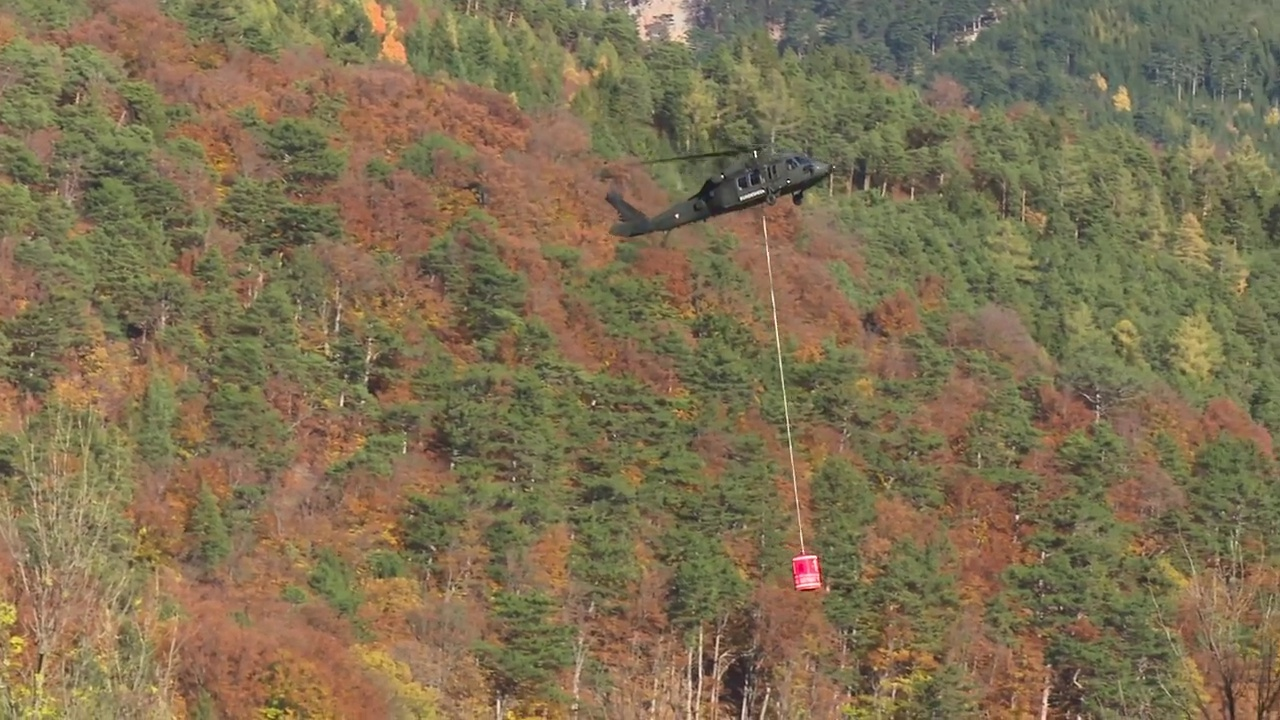heli: (602, 147, 838, 239)
